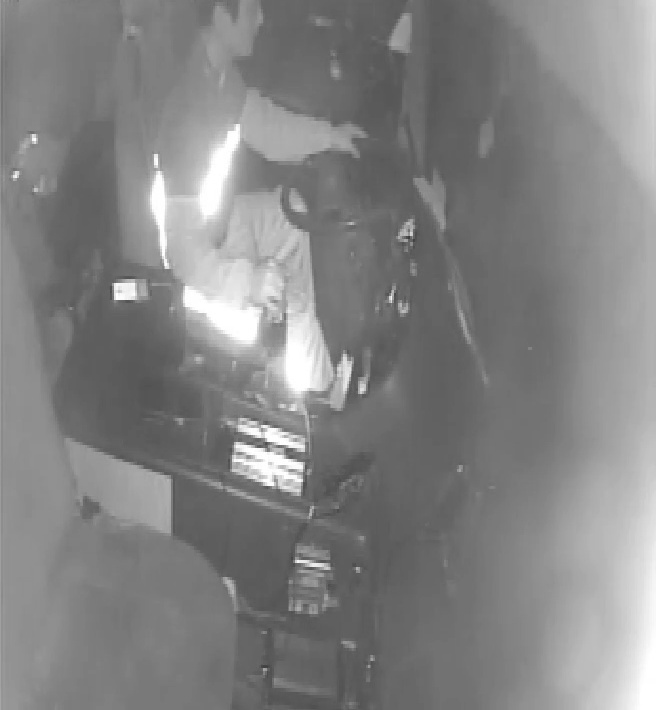cellphone: (104, 273, 154, 310)
